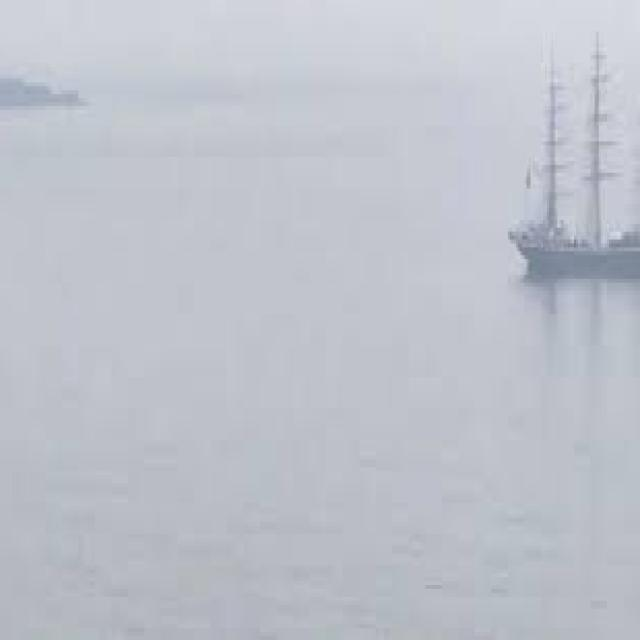fishing boat: (493, 44, 640, 292)
